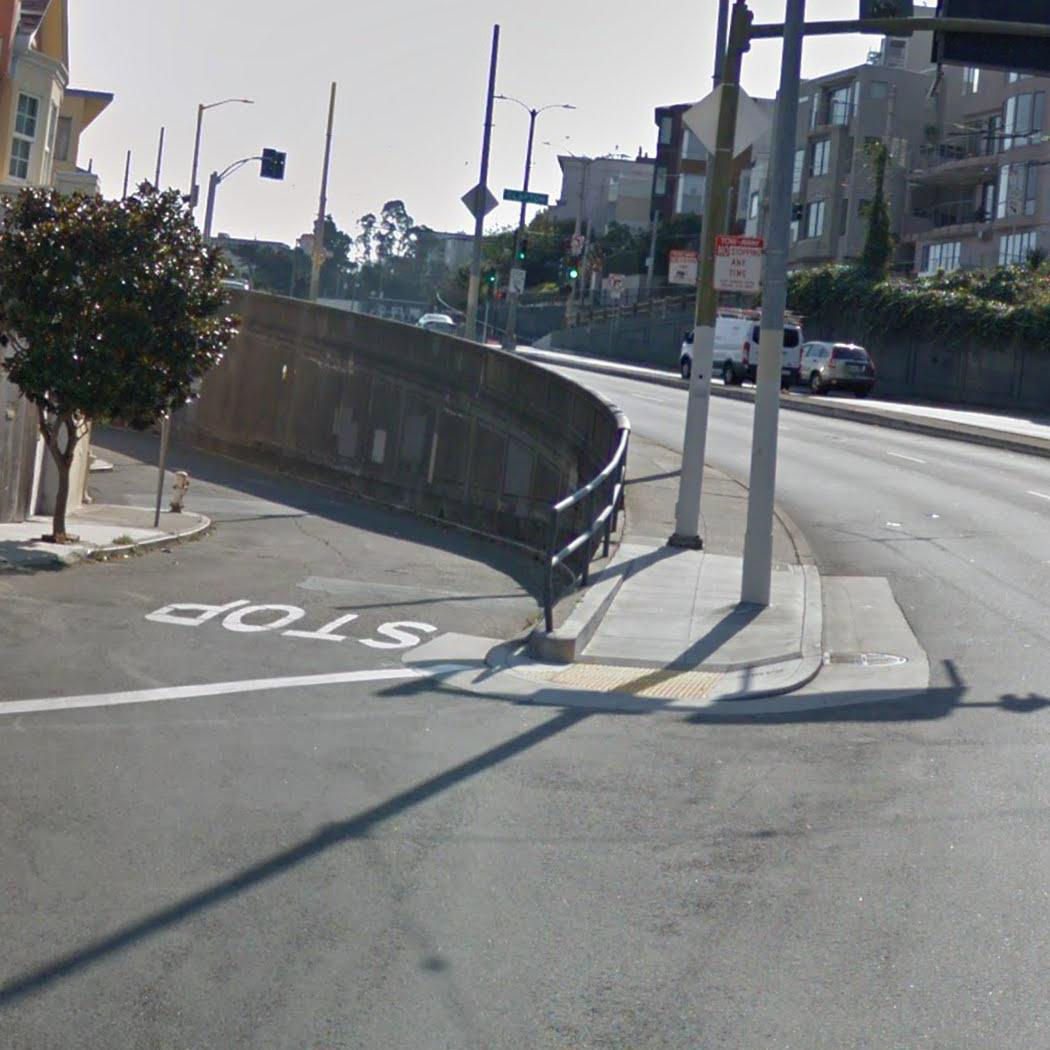No Parking Anytime: (711, 231, 766, 296), (666, 246, 700, 289)
